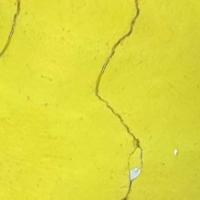crack: (58, 0, 150, 199)
